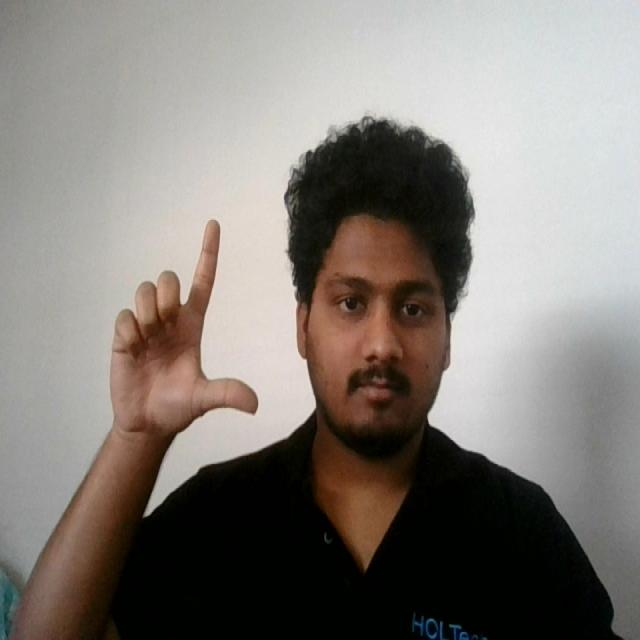IloveYou: (102, 213, 262, 450)
